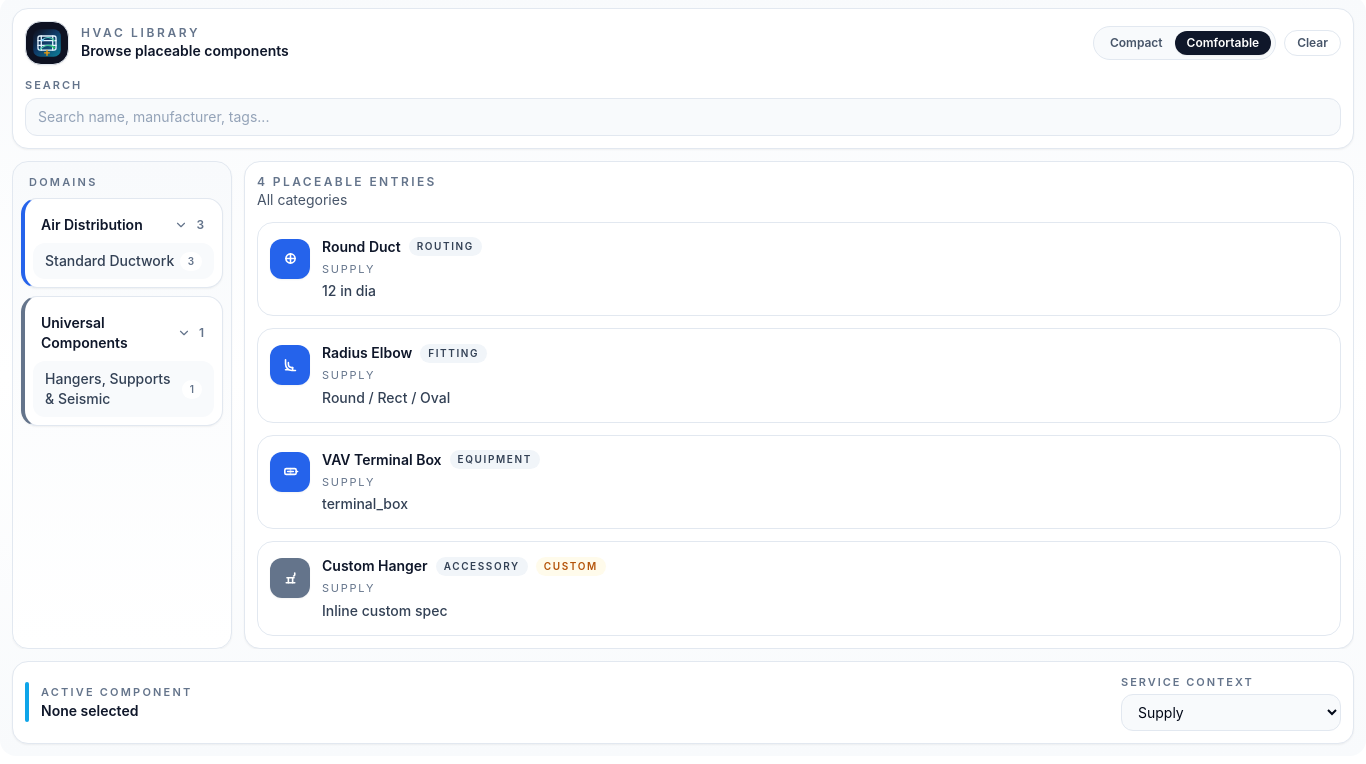
Scenario: CatalogPanel › shows the active component compatibility summary outside the row list
Click the button with test id "catalog-row-icon-round-duct".
click(290, 258)  # box [258, 222, 1340, 315]
(page scrolled)
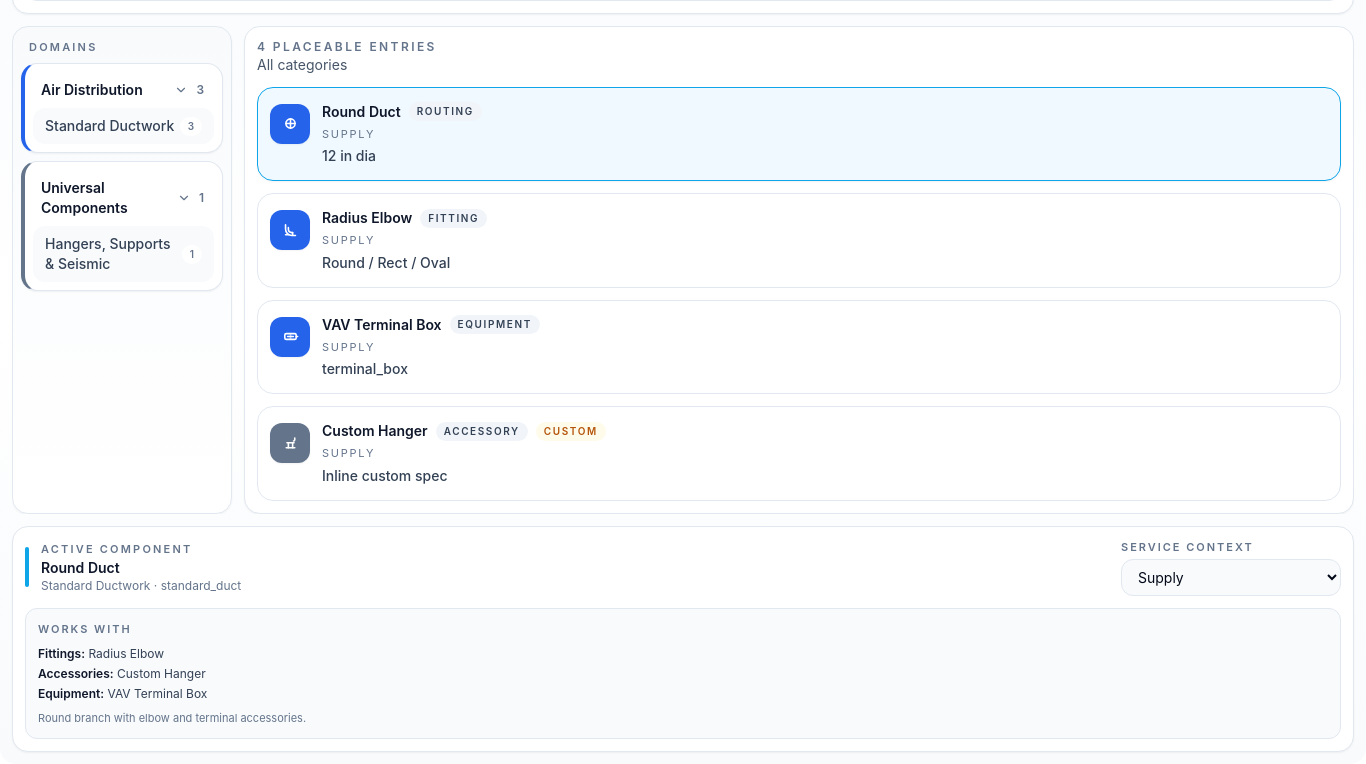
Now the element with test id "catalog-active-fittings" shows "Radius Elbow", box [88, 646, 164, 660]
Now the element with test id "catalog-active-accessories" shows "Custom Hanger", box [117, 666, 206, 680]
Now the element with test id "catalog-active-equipment" shows "VAV Terminal Box", box [107, 686, 207, 700]
